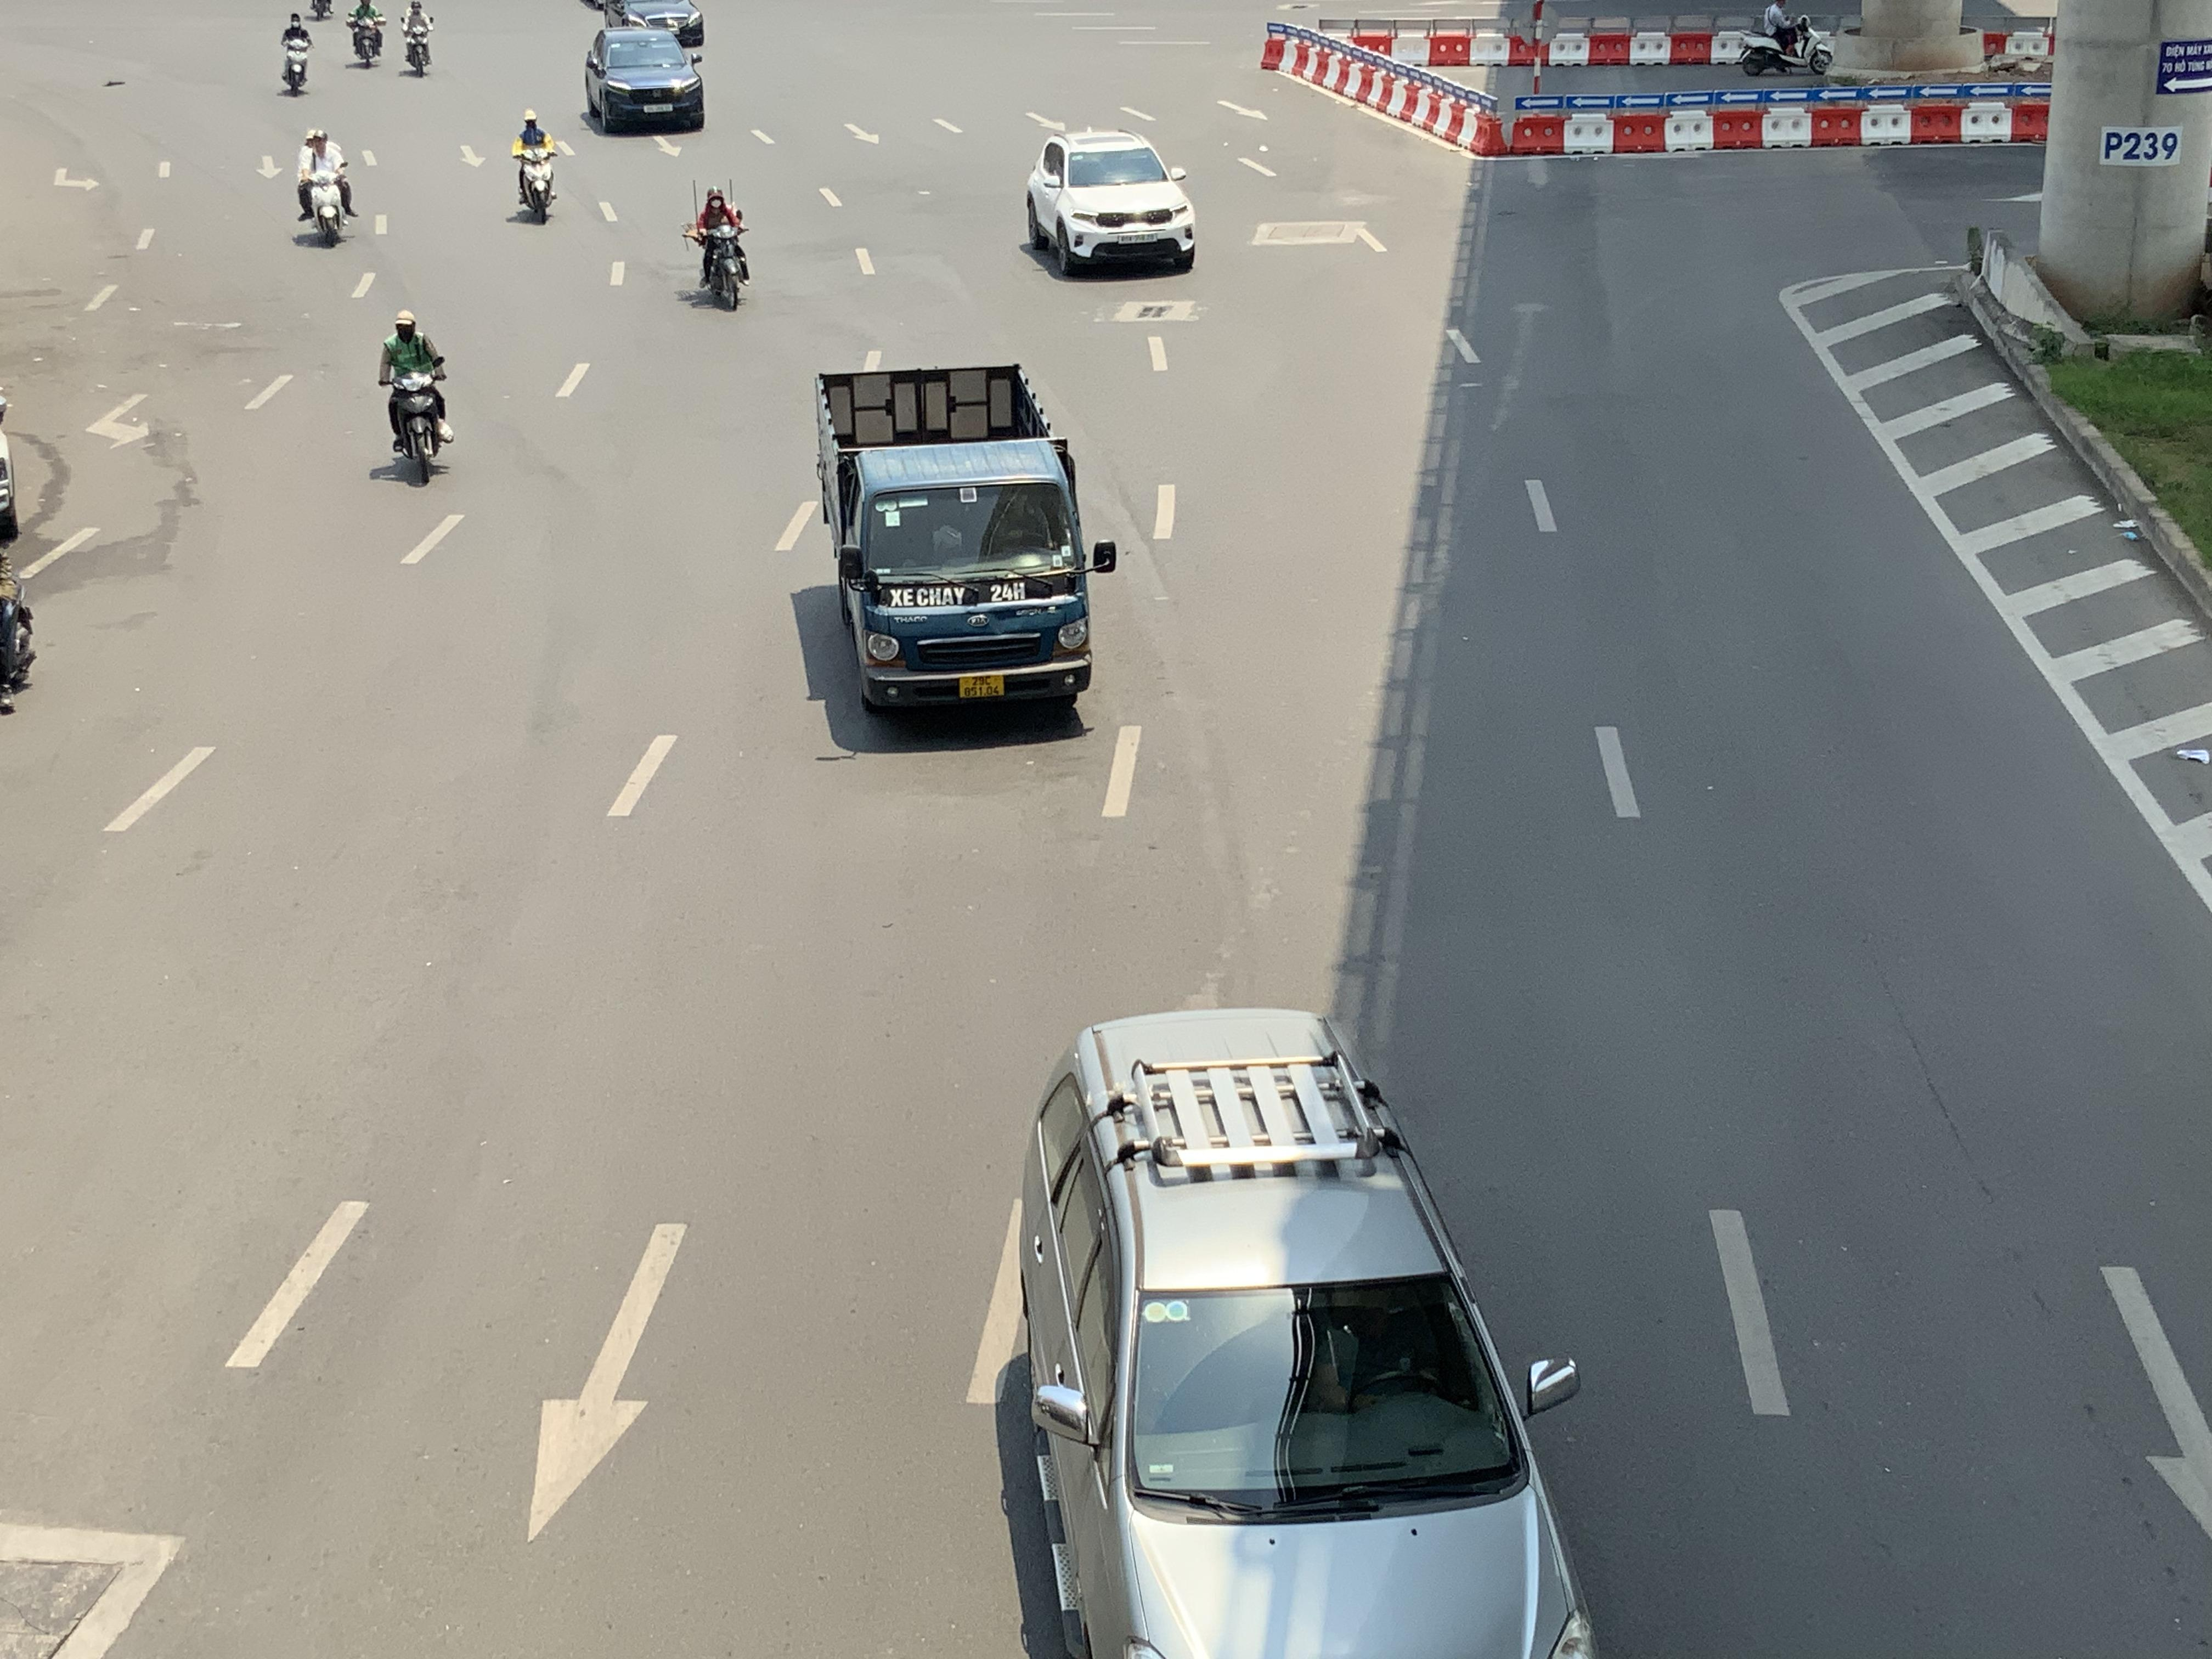BSV: (960, 674, 1003, 699)
car: (984, 1006, 1604, 1659), (1024, 131, 1197, 279), (580, 24, 705, 134), (597, 0, 705, 47)
motorbike: (380, 310, 451, 488), (0, 516, 35, 755), (686, 183, 749, 310), (1737, 0, 1834, 77), (296, 129, 355, 247), (510, 108, 561, 223), (279, 10, 312, 96), (345, 0, 385, 68), (401, 0, 434, 77)
truck: (812, 359, 1116, 721)
